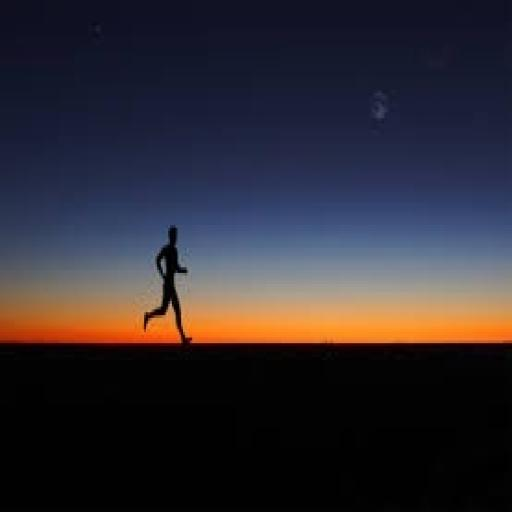running: (139, 219, 196, 349)
